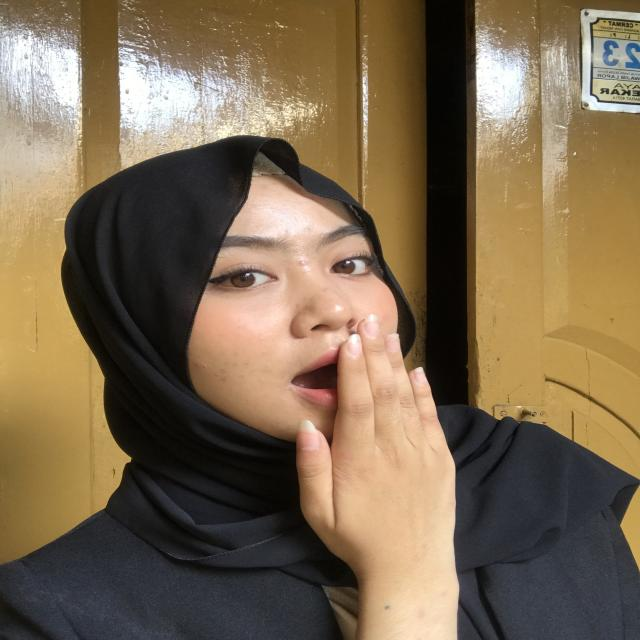ngantuk: (270, 290, 538, 601)
